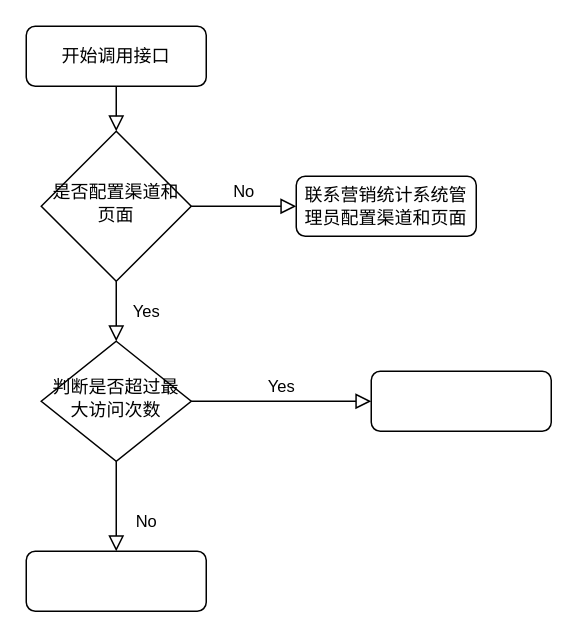
Image size: 578x638. Some labels were removed from this diagram. Here are the shapes that lost their labels. From the top down, the box of each, then its label:
(370, 370, 551, 431): 请求过于频繁，稍后再试
(25, 550, 206, 611): 结束记录成功。
